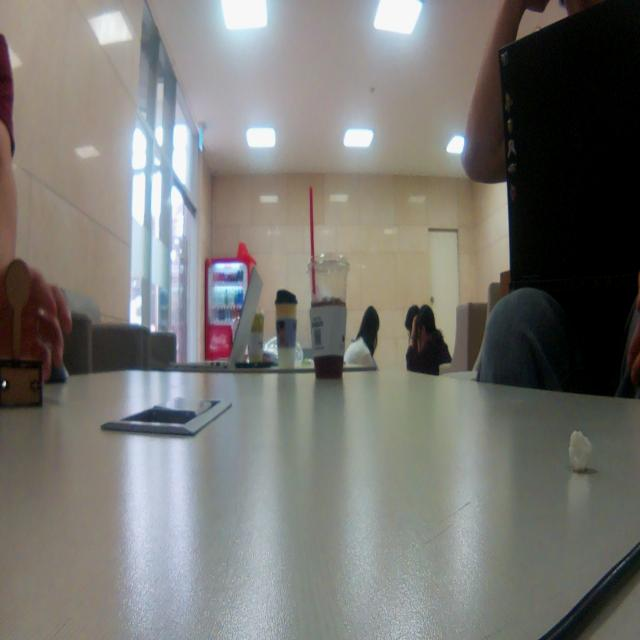target: (0, 257, 41, 409)
